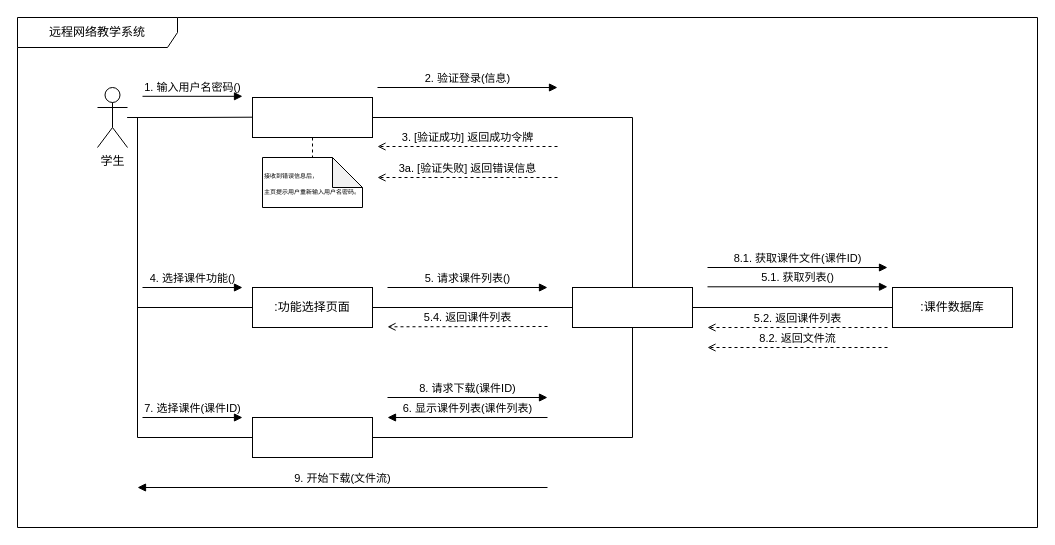
Some shapes in this 1055 by 545 pixel diagram are drawn without their labels. The shapes that lost their labels are listed below. From the top down, each one's box as (x1, y1, x2, y2) in pixels, then its label:
(252, 96, 372, 138): :主页
(572, 286, 692, 328): :处理系统
(252, 416, 372, 458): :课件选择页面
